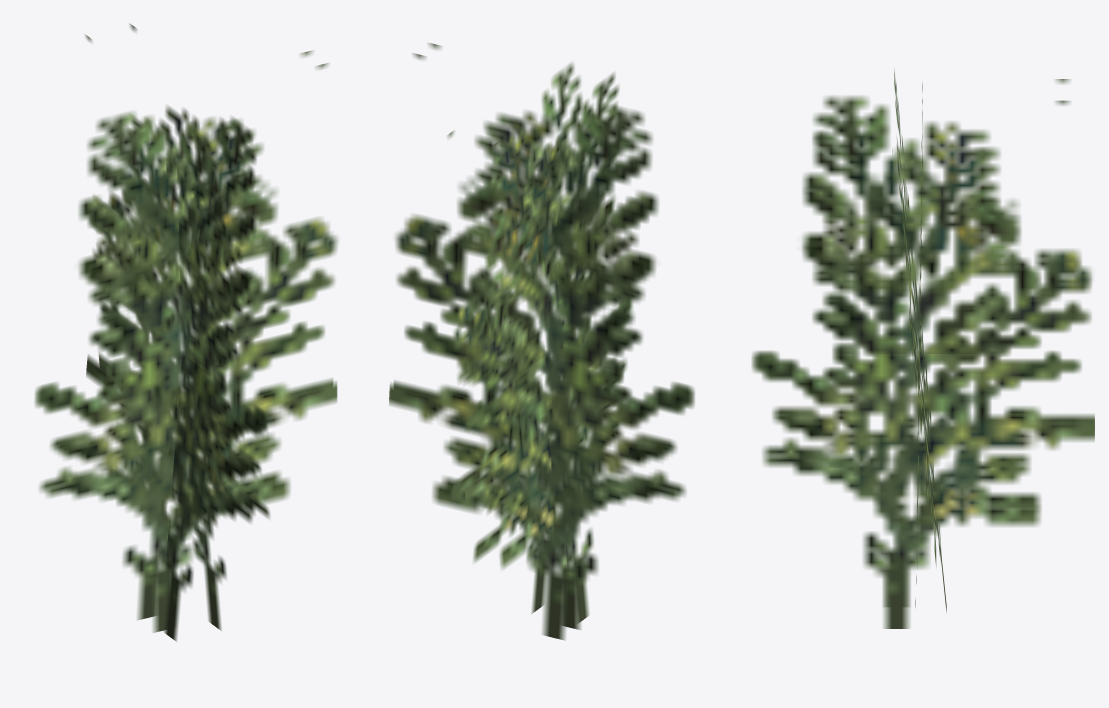
The model's file is plant-09.glb.
3 renders of one model, left to right at view 1: azimuth 30°, elevation 25°; view 2: azimuth 150°, elevation 25°; view 3: azimuth 270°, elevation 25°, orthographic.
Visible parts, largest first — view 1: wrld_plant_highland_1; view 2: wrld_plant_highland_1; view 3: wrld_plant_highland_1.
Part boxes in pixels (left/top/right/bottom): wrld_plant_highland_1: left=34, top=24, right=337, bottom=641; wrld_plant_highland_1: left=389, top=43, right=694, bottom=640; wrld_plant_highland_1: left=751, top=69, right=1094, bottom=628.
Bounding box in the file's own units: 2.33 × 3.89 × 2.33.
1 material, 1 textured.
